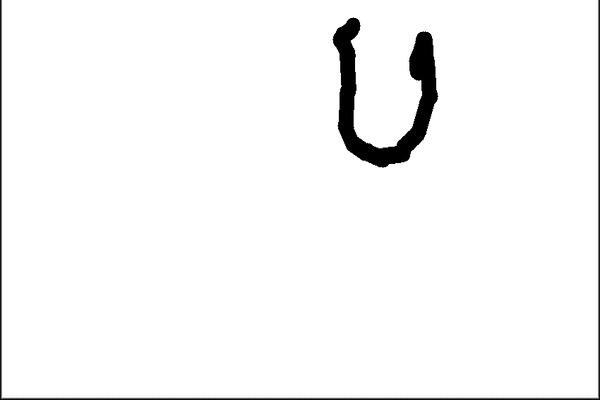U: (321, 8, 449, 172)
